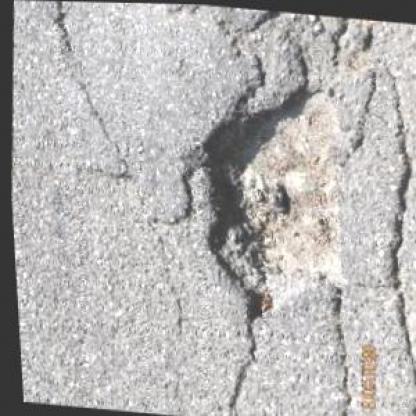pothole: (176, 69, 359, 329)
